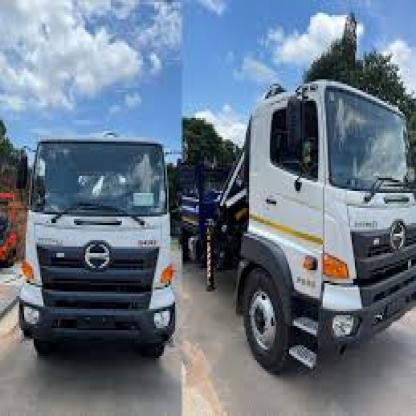dump_truck: (185, 58, 414, 371), (17, 122, 174, 367)
